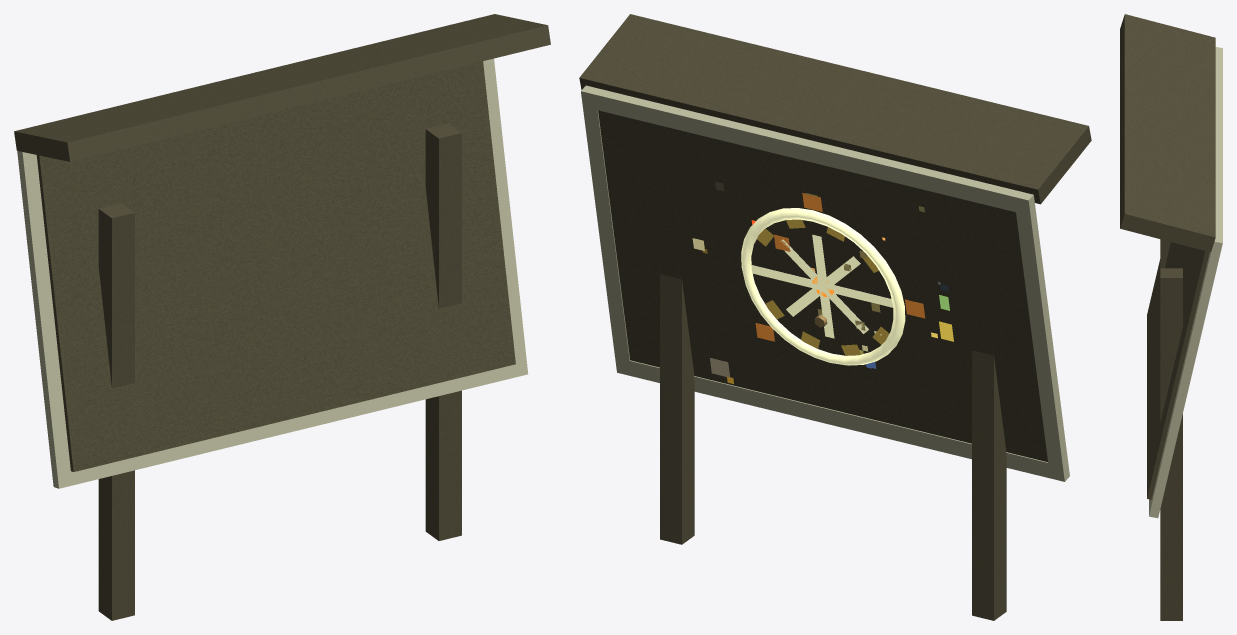
The model's file is baseline.glb.
3 renders of one model, left to right at view 1: azimuth 30°, elevation 25°; view 2: azimuth 150°, elevation 25°; view 3: azimuth 270°, elevation 25°, orthographic. The views are drawn at different scales.
Visible parts, largest first — view 1: mb3_0, mb3_1; view 2: mb3_0, mb3_1, mb3_3, mb3_4, mb3_5; view 3: mb3_0, mb3_1.
Part boxes in pixels (x1,y1,x2,y2): mb3_0: [14, 14, 550, 620]; mb3_1: [17, 58, 528, 488]; mb3_0: [579, 14, 1091, 620]; mb3_1: [581, 85, 1069, 481]; mb3_3: [741, 208, 905, 365]; mb3_4: [757, 219, 889, 355]; mb3_5: [755, 193, 925, 341]; mb3_0: [1120, 14, 1215, 620]; mb3_1: [1149, 47, 1222, 518].
Size of the model in its own units: 2.5 by 2.53 by 0.5431.
Materials: 22 (1 with a texture image).
